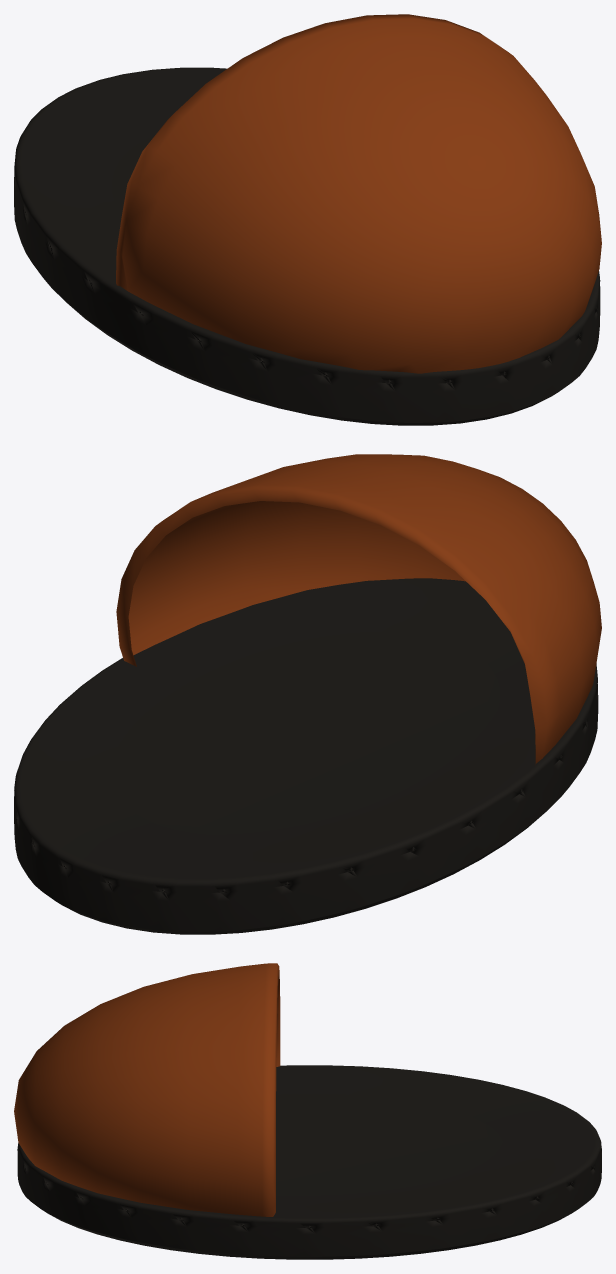
The model's file is Hausschuhe.obj.
3 renders of one model, top to bottom at view 1: azimuth 30°, elevation 25°; view 2: azimuth 150°, elevation 25°; view 3: azimuth 270°, elevation 25°, orthographic. The views are drawn at different scales.
Visible parts, largest first — view 1: Circle002; view 2: Circle002; view 3: Circle002.
Part boxes in pixels (x1=…): Circle002: x1=14, y1=14, x2=601, y2=425; Circle002: x1=14, y1=454, x2=601, y2=934; Circle002: x1=14, y1=963, x2=601, y2=1259.
Size of the model in its own units: 1.58 by 0.9432 by 2.51.
